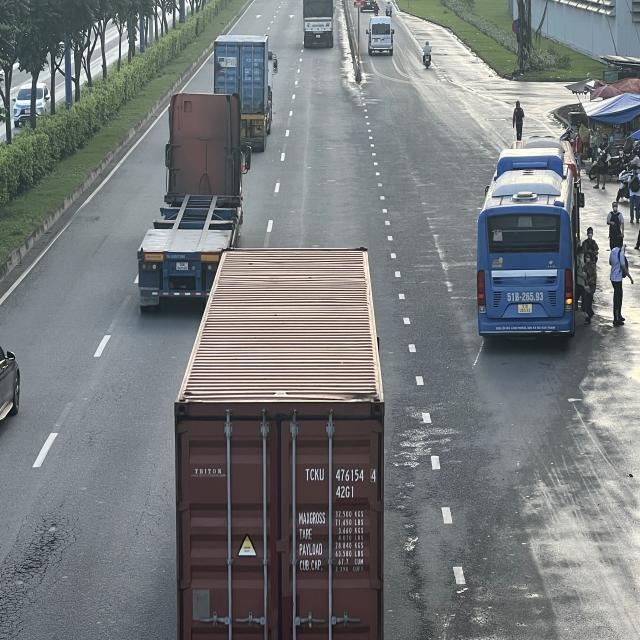coach: (477, 145, 583, 341)
container: (175, 251, 384, 640), (133, 90, 246, 312), (212, 35, 276, 154)
truck: (303, 0, 336, 48)
van: (367, 17, 392, 57)
